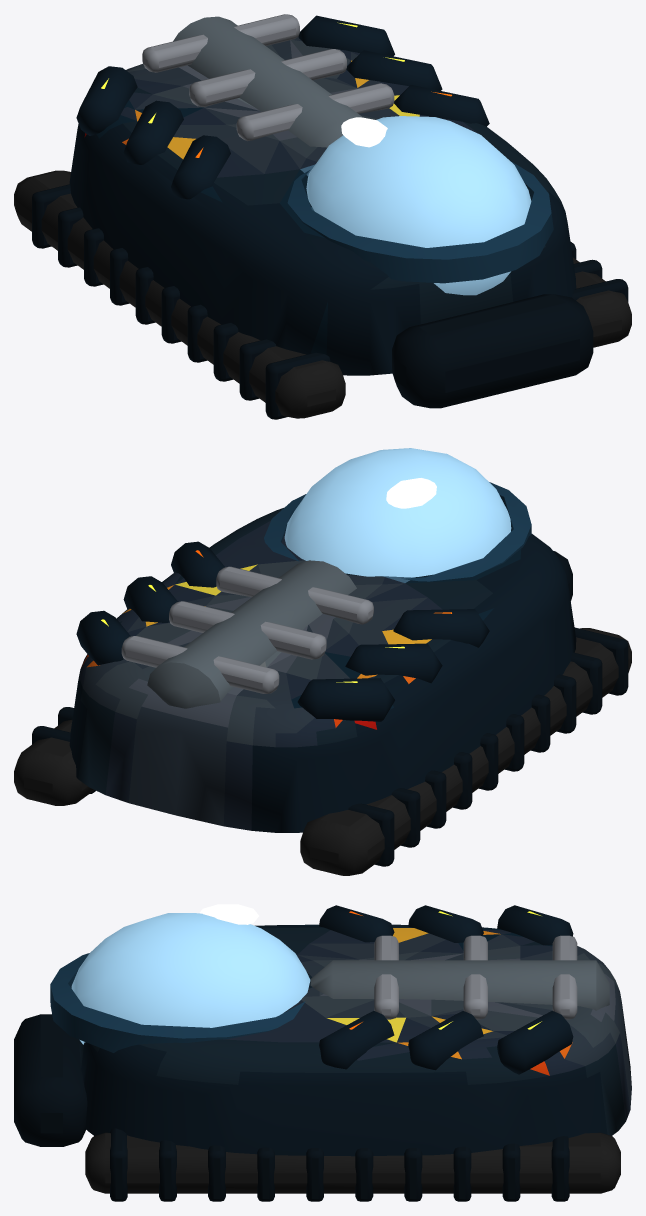
The model's file is crawler_head.glb.
3 views of the same model, one above another, from view 1: azimuth 30°, elevation 25°; view 2: azimuth 150°, elevation 25°; view 3: azimuth 270°, elevation 25° (orthographic). The views are drawn at different scales.
Parts seen in each view (by area): view 1: head_hull, glass, nose, head_track-1, glass_rim, spine, rib2.5, rib6.5, rib10.5, vent-14.0, head_track1, vent14.0 (+16 smaller); view 2: head_hull, glass, head_track-1, spine, head_track1, glass_rim, vent-14.0, rib6.5, rib2.5, rib10.5, vent-18.0, vent-112.0 (+14 smaller); view 3: head_hull, glass, head_track1, spine, nose, glass_rim, vent14.0, vent18.0, vent112.0, vent-14.0, vent-18.0, vent-112.0 (+14 smaller).
Boxes of the visible parts, box(x1,y1,x2,y2) form: head_hull: box(69, 37, 576, 375); glass: box(306, 116, 531, 295); nose: box(392, 294, 593, 408); head_track-1: box(14, 170, 345, 418); glass_rim: box(287, 161, 553, 283); spine: box(173, 16, 362, 147); rib2.5: box(142, 14, 299, 72); rib6.5: box(189, 49, 346, 106); rib10.5: box(236, 83, 394, 141); vent-14.0: box(76, 66, 137, 135); head_track1: box(573, 257, 631, 347); vent14.0: box(298, 15, 394, 56); head_hull: box(69, 508, 576, 832); glass: box(284, 448, 511, 577); head_track-1: box(300, 628, 631, 875); spine: box(147, 560, 356, 708); head_track1: box(14, 720, 94, 805); glass_rim: box(264, 482, 531, 581); vent-14.0: box(297, 678, 394, 721); rib6.5: box(169, 601, 326, 659); rib2.5: box(121, 636, 279, 693); rib10.5: box(216, 566, 373, 624); vent-18.0: box(345, 643, 442, 683); vent-112.0: box(393, 609, 489, 647); head_hull: box(79, 924, 631, 1156); glass: box(71, 913, 310, 1044); head_track1: box(85, 1132, 620, 1193); spine: box(310, 960, 609, 1010); nose: box(14, 1014, 87, 1146); glass_rim: box(50, 953, 305, 1052); vent14.0: box(497, 1010, 573, 1074); vent18.0: box(408, 1011, 483, 1070); vent112.0: box(319, 1011, 394, 1069); vent-14.0: box(497, 905, 573, 945); vent-18.0: box(408, 905, 483, 942); vent-112.0: box(319, 905, 394, 942).
Bounding box in the file's own units: 17.5 × 10 × 27.7.
